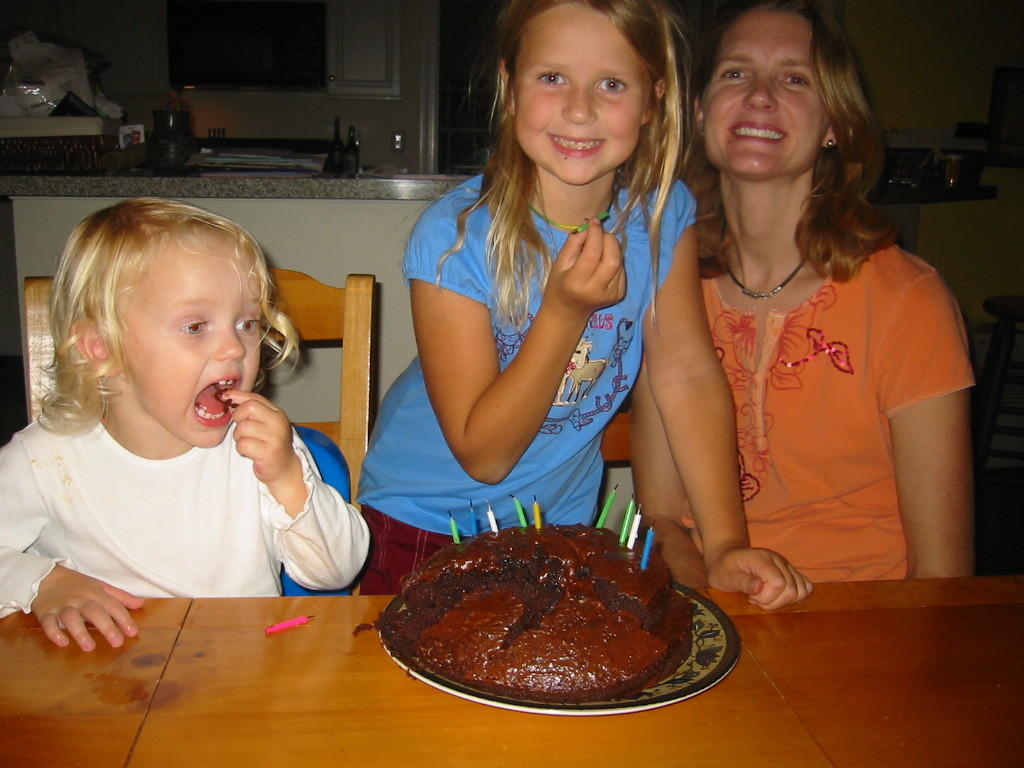cake: (375, 519, 693, 708)
